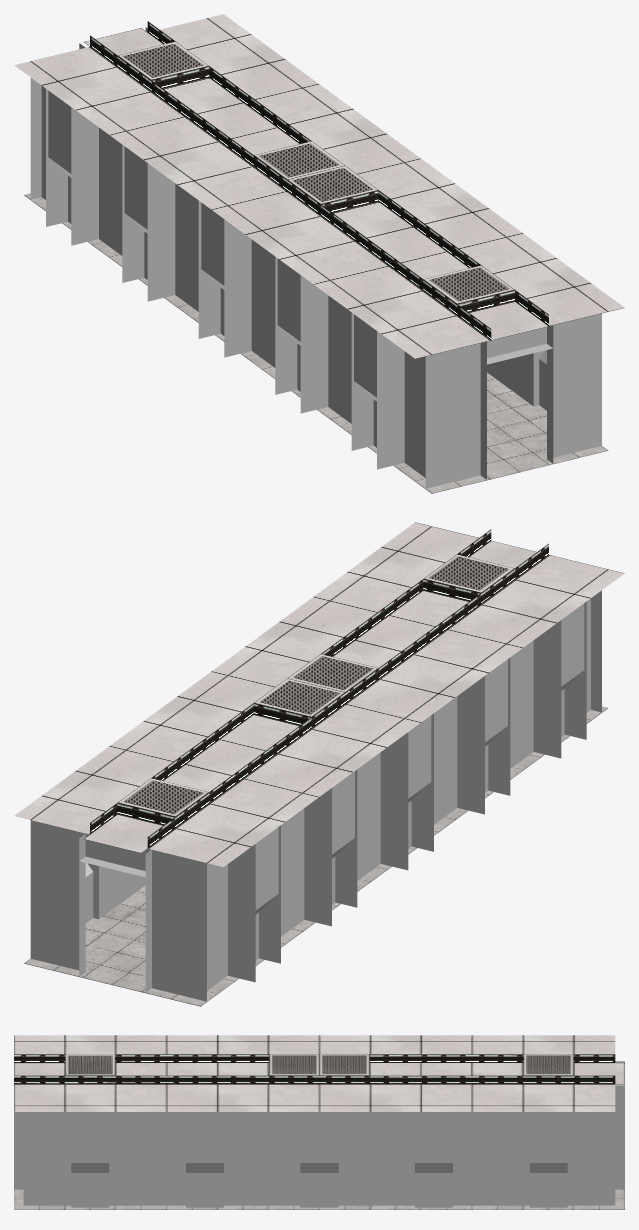
File: room2z3_2_opt.fbx
3 views of the same model, one above another, from view 1: azimuth 30°, elevation 25°; view 2: azimuth 150°, elevation 25°; view 3: azimuth 270°, elevation 25° (orthographic). The views are drawn at different scales.
Parts seen in each view (by area): view 1: Scene_Root; view 2: Scene_Root; view 3: Scene_Root.
Boxes of the visible parts, x1=… form: Scene_Root: x1=14, y1=14, x2=624, y2=493; Scene_Root: x1=14, y1=522, x2=624, y2=1006; Scene_Root: x1=14, y1=1035, x2=624, y2=1209.
Size of the model in its own units: 441 by 302 by 1485.
